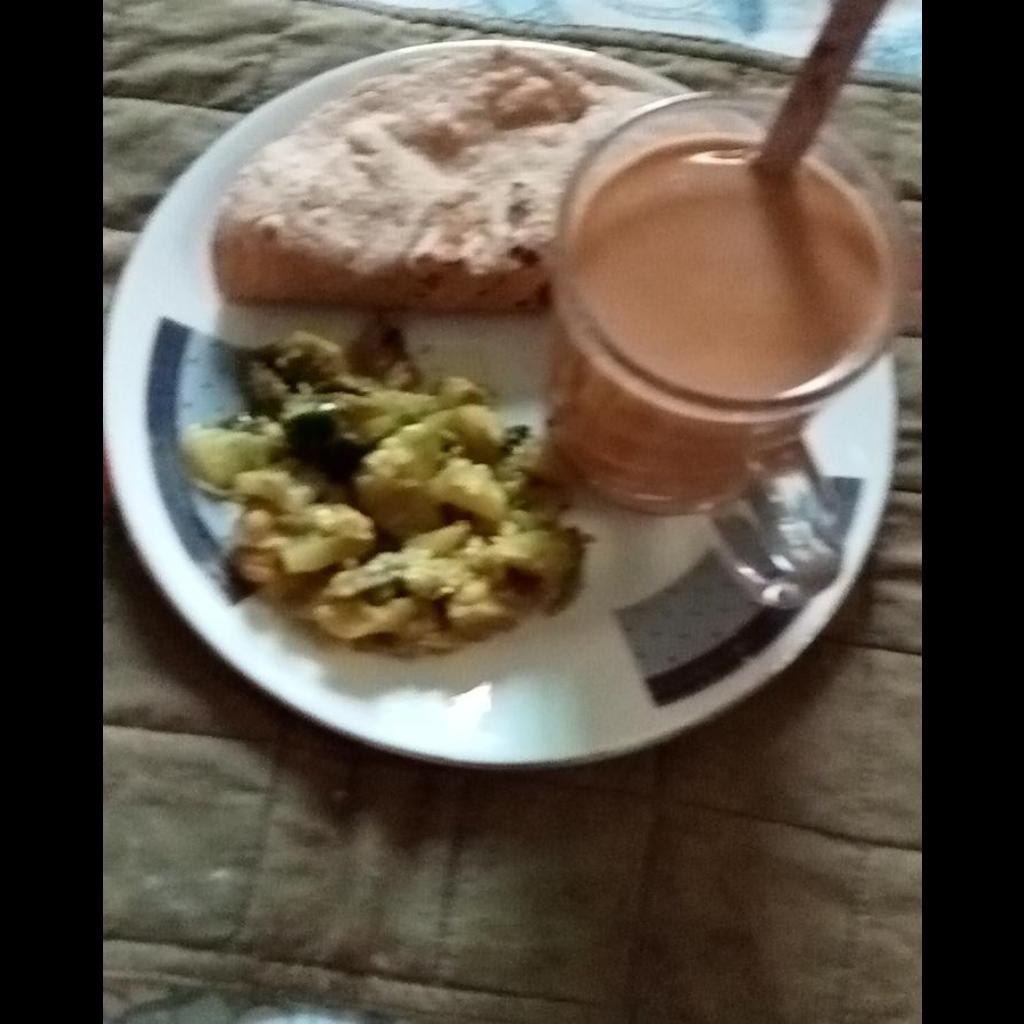cauliflower: (184, 333, 580, 652)
cha: (568, 146, 881, 393)
ruti: (209, 50, 680, 305)
